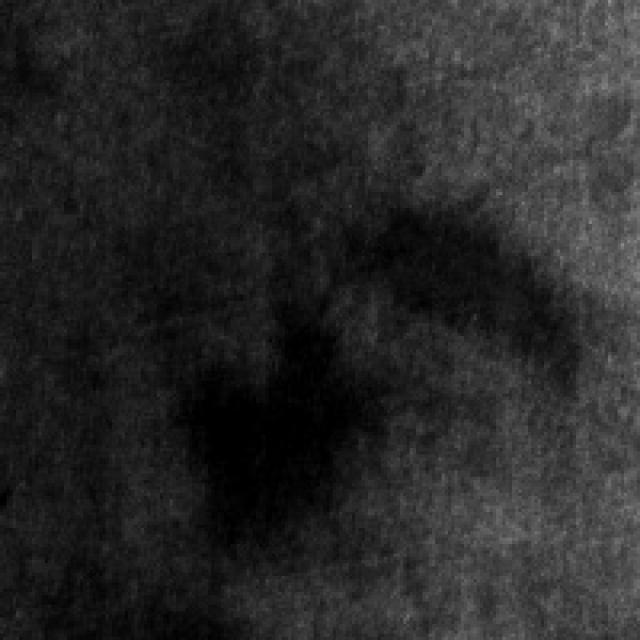patches: (150, 263, 378, 566), (314, 176, 582, 403)
